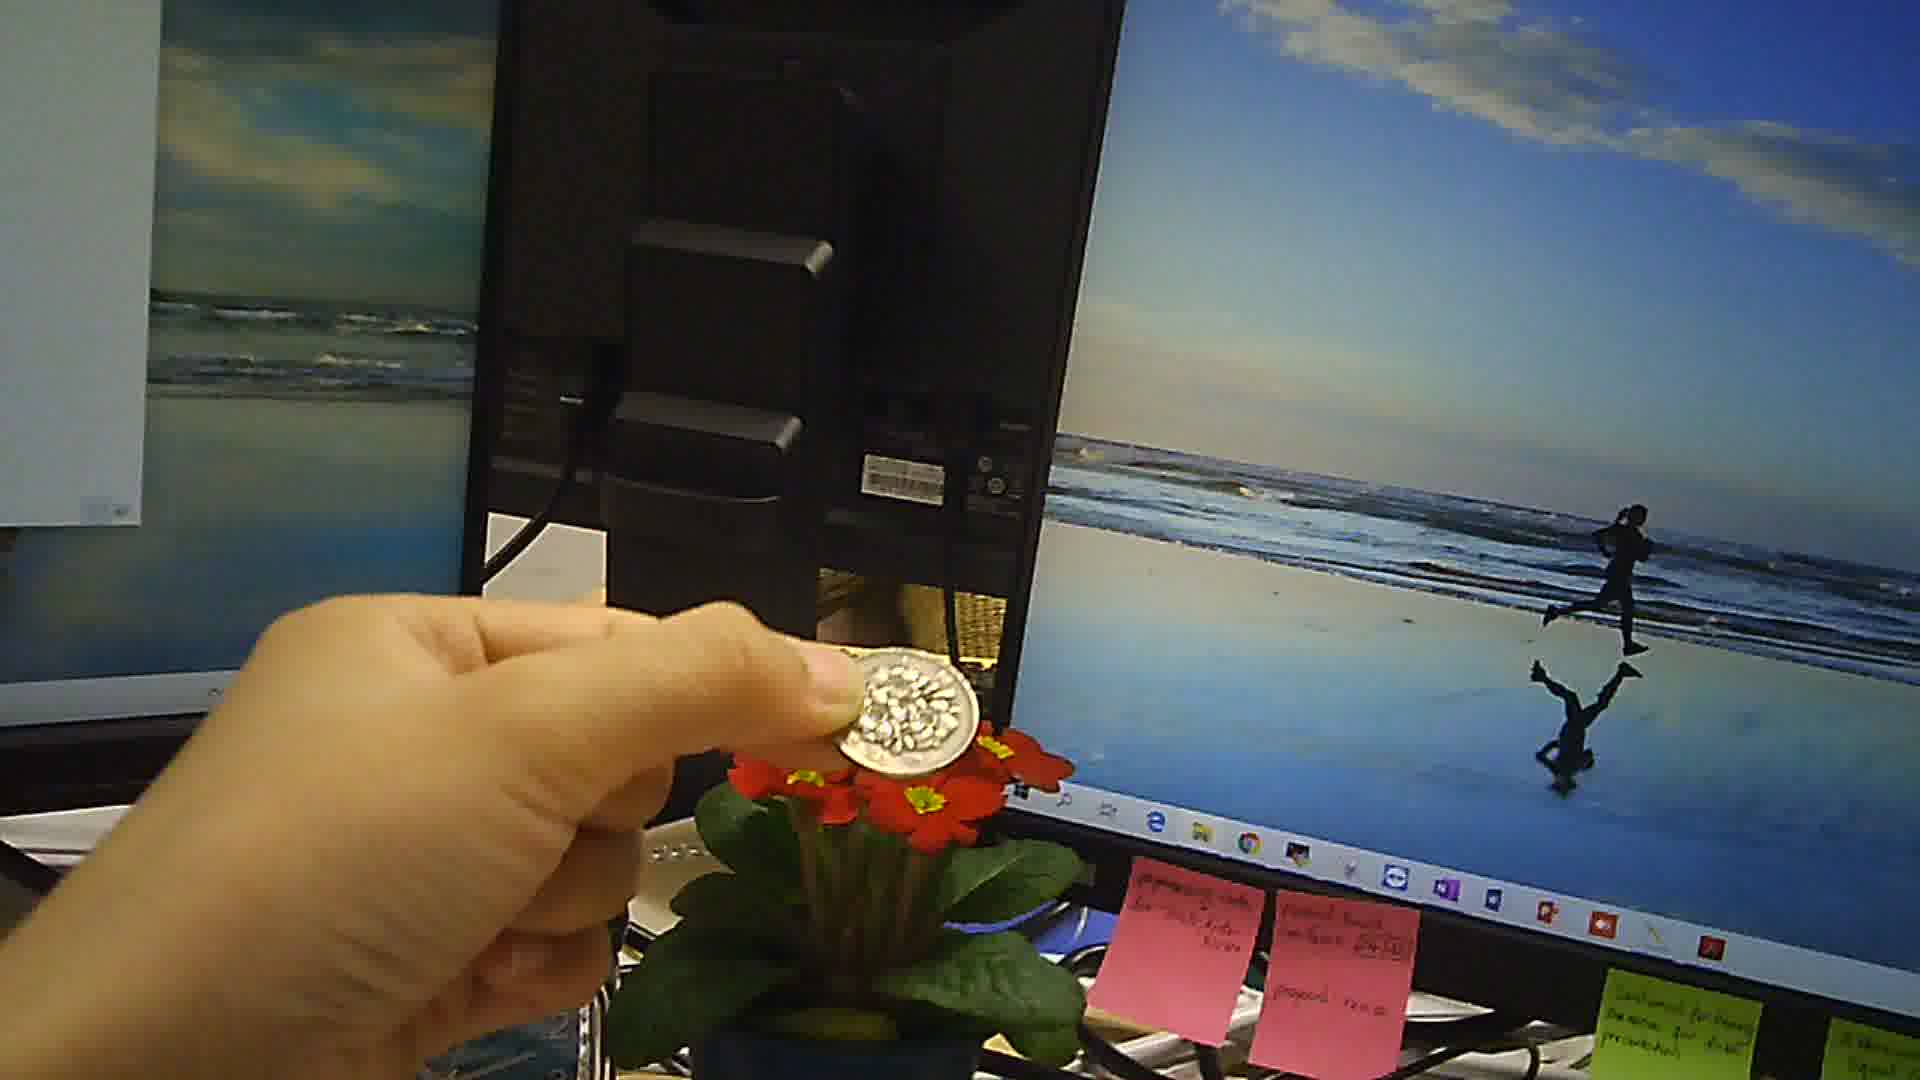100 Yen: (815, 644, 977, 775)
